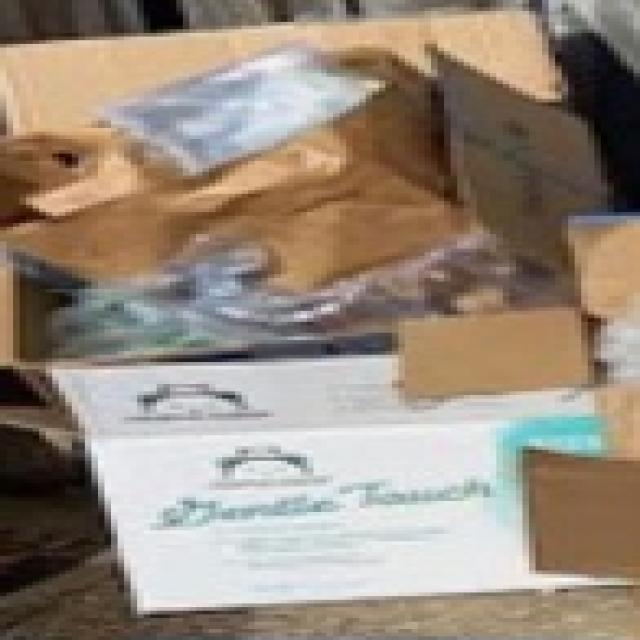cardboard: (15, 0, 640, 609)
